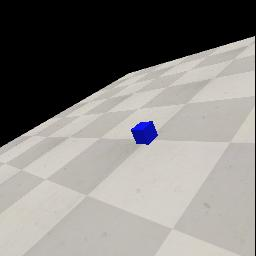box: (131, 121, 158, 145)
